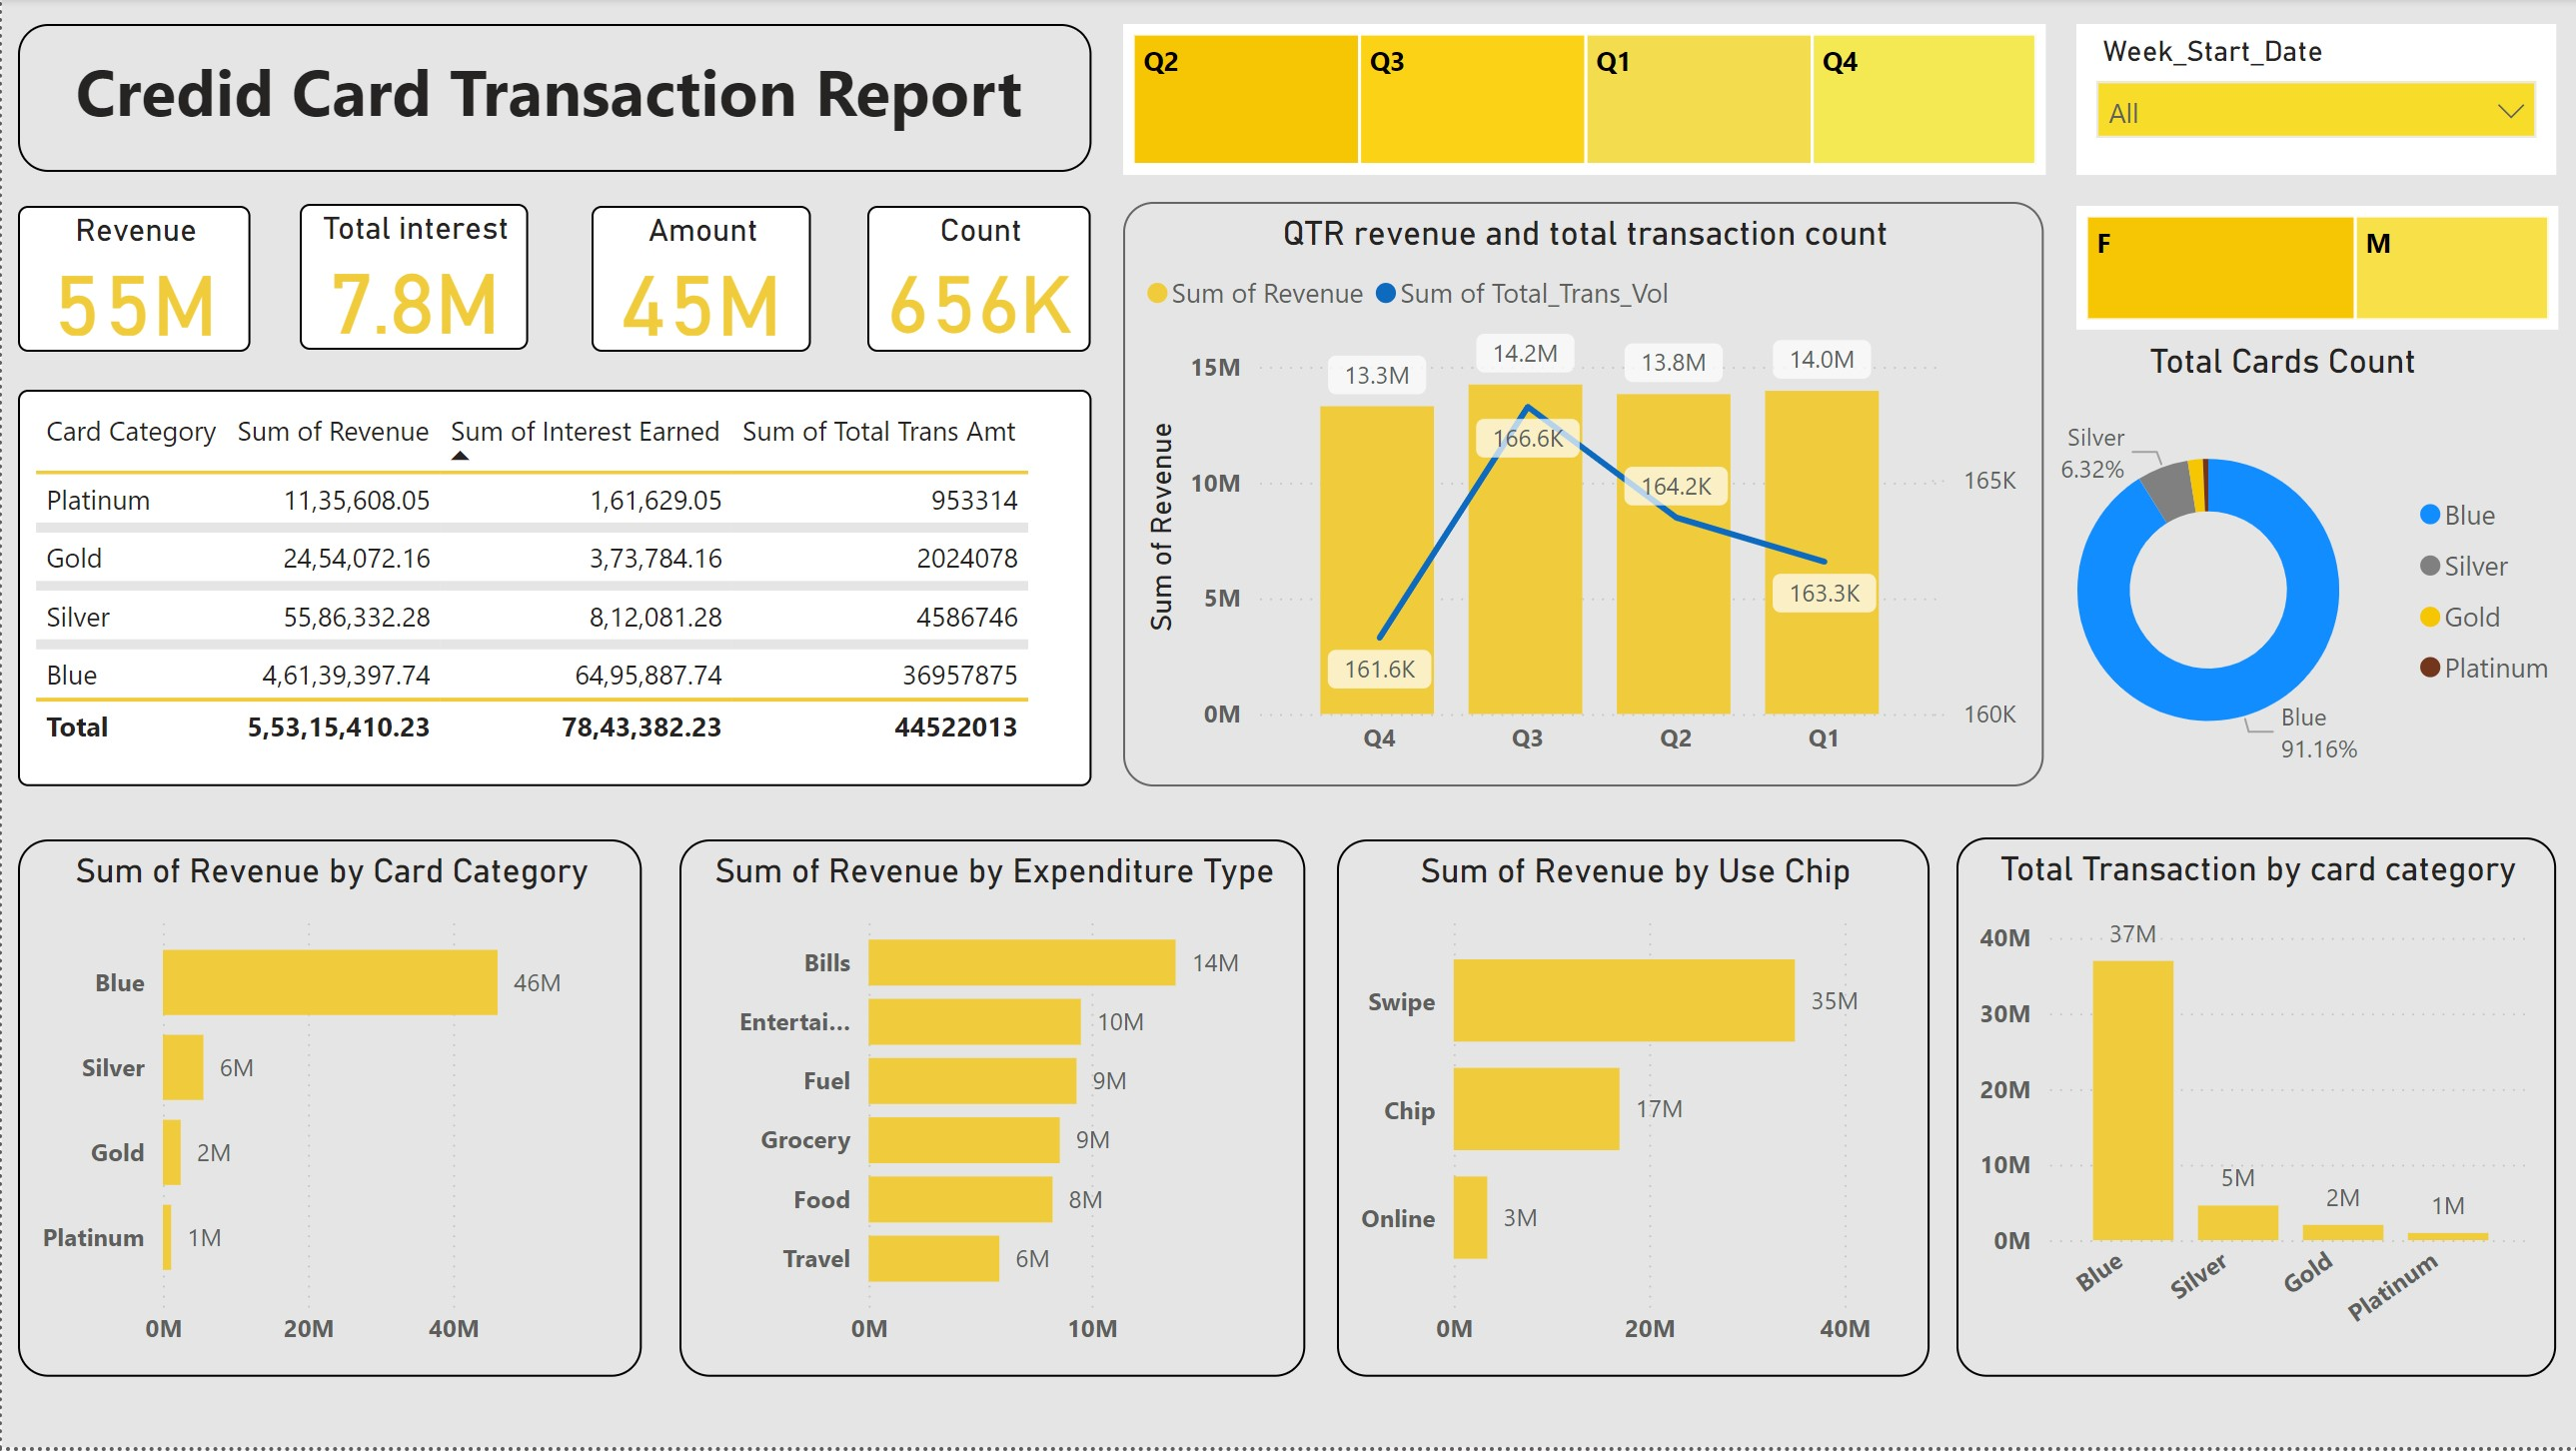

Layout of this report page (visuals, bound fields, positions):
{"tool":"powerbi","page":{"name":"Credid_card","canvas":[1280,720],"ordinal":0},"visuals":[{"type":"textbox","box":[7.7,13.2,533.3,73.7],"z":0},{"type":"lineStackedColumnComboChart","title":"QTR revenue and total transaction count","fields":{"Category":["credit_card.Qtr"],"Y":["Sum(credit_card.Revenue)"],"Y2":["Sum(credit_card.Total_Trans_Vol)"]},"box":[557.5,101.2,457.5,290.3],"z":1000},{"type":"barChart","title":"Sum of Revenue by Expenditure Type","fields":{"Category":["credit_card.Exp Type"],"Y":["Sum(credit_card.Revenue)"]},"box":[336.5,417.9,311.2,267.2],"z":2000},{"type":"barChart","title":"Sum of Revenue by Card Category","fields":{"Category":["credit_card.Card_Category","credit_card.Exp Type"],"Y":["Sum(credit_card.Revenue)"]},"box":[7.7,417.9,310.1,267.2],"z":3000},{"type":"barChart","fields":{"Category":["credit_card.Use Chip"],"Y":["Sum(credit_card.Revenue)"]},"box":[663.1,417.9,294.7,267.2],"z":4000},{"type":"tableEx","fields":{"Values":["credit_card.Card_Category","Sum(credit_card.Revenue)","Sum(credit_card.Interest_Earned)","Sum(credit_card.Total_Trans_Amt)"]},"box":[7.7,194.6,533.3,196.8],"z":5000},{"type":"card","title":"Revenue","fields":{"Values":["Sum(credit_card.Revenue)"]},"box":[7.7,103.4,115.5,72.6],"z":6000},{"type":"card","title":"Total interest","fields":{"Values":["Sum(credit_card.Interest_Earned)"]},"box":[148.5,102.3,113.3,72.6],"z":7000},{"type":"card","title":"Count","fields":{"Values":["Sum(credit_card.Total_Trans_Vol)"]},"box":[430,103.4,111.1,72.6],"z":8000},{"type":"card","title":"Amount","fields":{"Values":["Sum(credit_card.Total_Trans_Amt)"]},"box":[292.5,103.4,108.9,72.6],"z":9000},{"type":"slicer","fields":{"Values":["credit_card.Week_Start_Date"]},"box":[1030.4,13.2,238.6,74.8],"z":10000},{"type":"treemap","fields":{"Group":["credit_card.Qtr"],"Values":["CountNonNull(credit_card.Client_Num)"]},"box":[557.5,13.2,458.6,74.8],"z":11000},{"type":"treemap","fields":{"Values":["CountNonNull(credit_card.Client_Num)"],"Group":["customer.Gender"]},"box":[1030.4,103.4,239.7,61.6],"z":12000},{"type":"donutChart","title":"Total Cards Count","fields":{"Category":["credit_card.Card_Category"],"Y":["CountNonNull(credit_card.Client_Num)"]},"box":[987.5,170.4,292.5,227.6],"z":13000},{"type":"clusteredColumnChart","title":"Total Transaction by card category","fields":{"Category":["credit_card.Card_Category"],"Y":["Sum(credit_card.Total_Trans_Amt)"]},"box":[971.3,417.1,297.9,268.1],"z":14000}]}

Visuals, with their boxes in screenshot pixels (x1, y1, x2, y2), scaled from the page's 1280x720 canvas onto the 2576x1451 screenshot:
textbox: box=[16, 27, 1089, 175]
"QTR revenue and total transaction count" lineStackedColumnComboChart: box=[1122, 204, 2042, 789]
"Sum of Revenue by Expenditure Type" barChart: box=[677, 842, 1304, 1381]
"Sum of Revenue by Card Category" barChart: box=[16, 842, 640, 1381]
barChart - credit_card.Use Chip x Sum(credit_card.Revenue): box=[1335, 842, 1928, 1381]
tableEx - credit_card.Card_Category x Sum(credit_card.Revenue): box=[16, 392, 1089, 788]
"Revenue" card: box=[16, 209, 248, 355]
"Total interest" card: box=[299, 206, 527, 353]
"Count" card: box=[865, 209, 1089, 355]
"Amount" card: box=[589, 209, 807, 355]
slicer - credit_card.Week_Start_Date: box=[2073, 27, 2554, 177]
treemap - credit_card.Qtr x CountNonNull(credit_card.Client_Num): box=[1122, 27, 2044, 177]
treemap - CountNonNull(credit_card.Client_Num) x customer.Gender: box=[2073, 209, 2556, 333]
"Total Cards Count" donutChart: box=[1987, 344, 2575, 802]
"Total Transaction by card category" clusteredColumnChart: box=[1954, 840, 2554, 1381]
